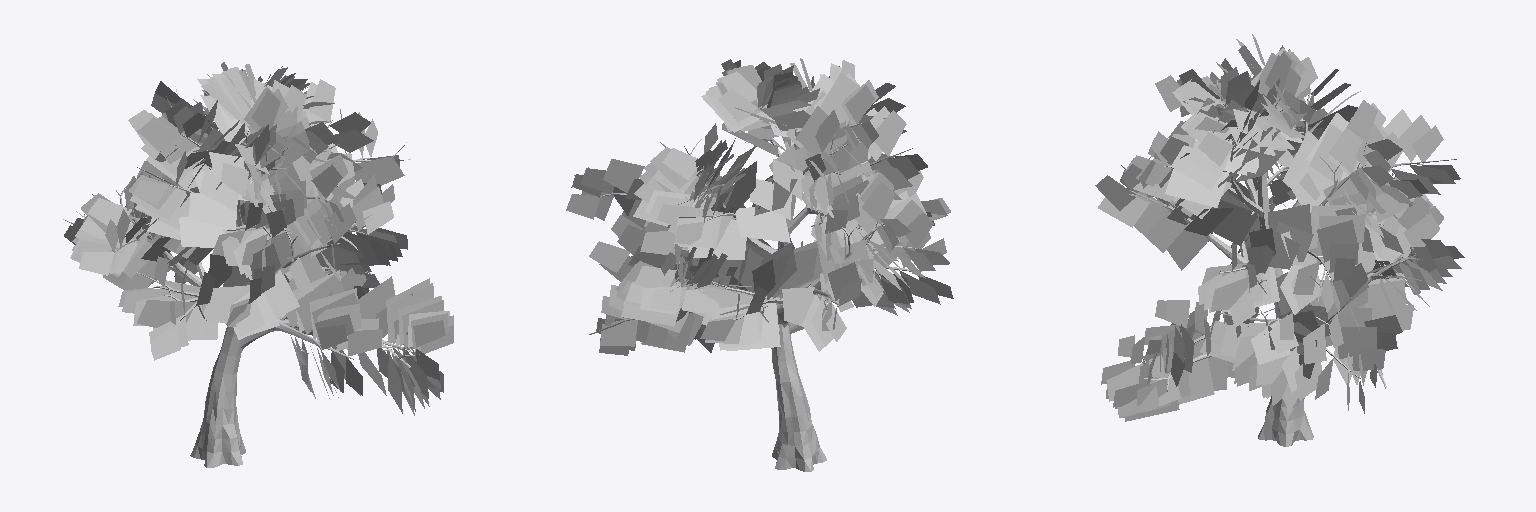
Rendered from Tree_1.obj.
The picture shows the model from 3 angles: view 1: azimuth 30°, elevation 25°; view 2: azimuth 150°, elevation 25°; view 3: azimuth 270°, elevation 25°; orthographic projection.
Visible parts, largest first — view 1: tree; view 2: tree; view 3: tree.
Boxes of the visible parts, <box> form: tree: <box>63,62,453,467</box>; tree: <box>566,58,953,471</box>; tree: <box>1095,34,1464,446</box>.
Bounding box in the file's own units: 369 × 380 × 328.